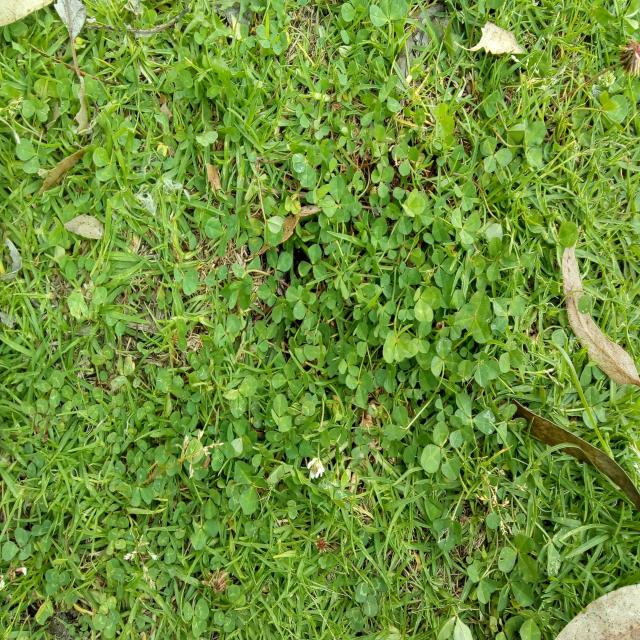Four Leaf Clover: (370, 163, 395, 198)
